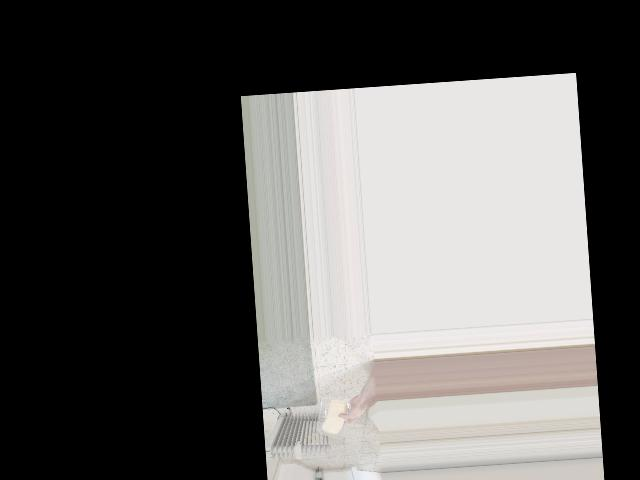cheese: (319, 396, 350, 438)
